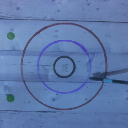Axe Tip: (92, 75, 104, 77)
